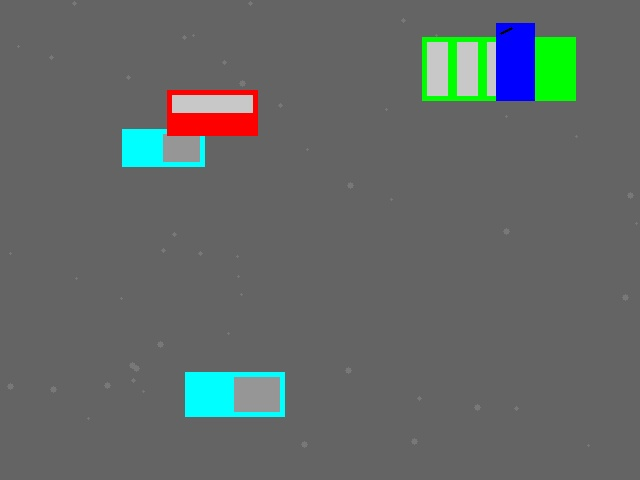bus: (422, 37, 575, 100)
car: (167, 90, 257, 135)
motorcycle: (496, 23, 534, 100)
truck: (185, 372, 284, 416), (122, 129, 204, 166)
